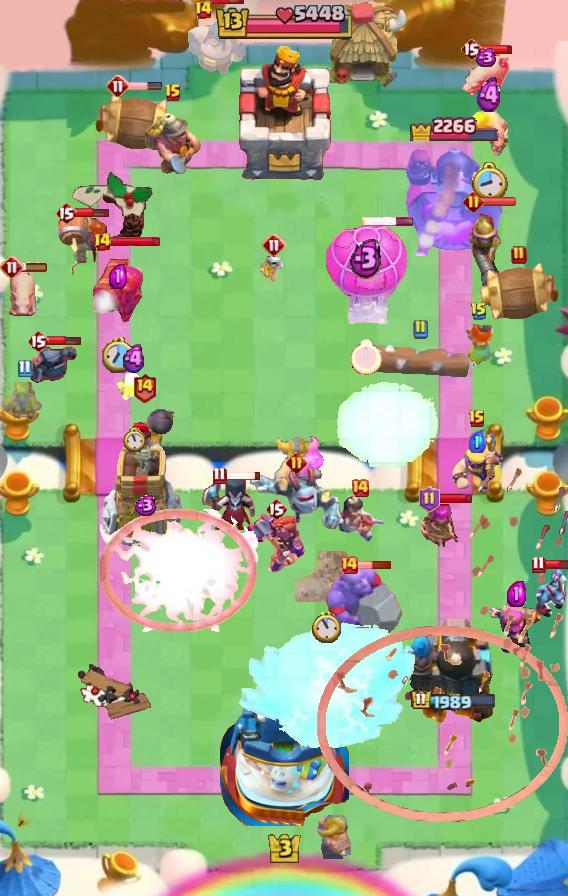archer: (421, 503, 463, 547)
bar: (110, 235, 161, 248), (362, 216, 415, 227), (437, 493, 473, 505), (13, 261, 49, 273), (47, 335, 82, 347), (75, 207, 110, 219), (225, 470, 262, 481), (481, 196, 517, 207), (479, 44, 513, 55), (127, 81, 163, 91), (357, 560, 392, 570), (544, 558, 568, 570), (210, 0, 245, 6)
bar-level: (132, 372, 157, 403), (0, 255, 24, 279), (262, 233, 286, 257), (106, 74, 130, 98), (419, 486, 440, 512), (265, 497, 287, 521), (27, 329, 49, 353), (55, 201, 77, 225), (460, 37, 482, 61), (286, 452, 307, 473), (463, 191, 484, 212), (339, 555, 359, 575), (350, 478, 370, 498), (93, 232, 112, 252), (194, 0, 213, 20), (468, 409, 486, 429), (470, 301, 488, 321), (164, 83, 182, 103), (412, 319, 428, 339), (511, 245, 527, 265), (531, 555, 546, 574), (212, 466, 227, 485), (17, 359, 32, 378)
barbarian: (468, 100, 510, 156)
barbarian-barrel: (477, 260, 561, 322), (93, 90, 177, 152)
barbarian-evolution: (450, 433, 505, 494)
cannoneer-tower: (403, 138, 504, 256), (406, 611, 500, 731)
clock: (471, 162, 508, 204), (102, 337, 135, 373), (351, 339, 382, 375), (312, 611, 341, 643), (123, 427, 146, 453)
dirt: (295, 551, 357, 602)
elite-barbarian: (273, 434, 324, 500), (315, 813, 351, 860)
elixir: (349, 237, 383, 279), (476, 77, 503, 114), (120, 344, 149, 374), (132, 495, 157, 516), (507, 581, 526, 607), (473, 48, 497, 67), (109, 264, 127, 289), (469, 430, 486, 453)
executioner: (185, 0, 247, 78)
firecracker: (487, 601, 545, 655)
firecracker-evolution: (89, 245, 147, 325)
goblin: (2, 382, 46, 424)
hog: (459, 49, 511, 99), (4, 267, 38, 323)
king-tower: (220, 678, 349, 826), (230, 43, 338, 181)
king-tower-bar: (213, 5, 355, 43)
mega-minion: (248, 465, 344, 531)
miner: (142, 105, 204, 177)
mini-pekka: (26, 342, 78, 386)
minion: (526, 568, 568, 620)
musketeer: (463, 203, 505, 291)
night-witch: (201, 472, 259, 542)
princess: (329, 496, 391, 548)
skeleton: (115, 367, 153, 403), (260, 250, 288, 282)
the-log: (370, 341, 470, 379)
tower-bar: (407, 110, 499, 141), (410, 689, 497, 713)
valkyrie: (460, 319, 498, 371)
valkyrie-evolution: (245, 511, 307, 575)
wall-breaker: (55, 211, 103, 277)
